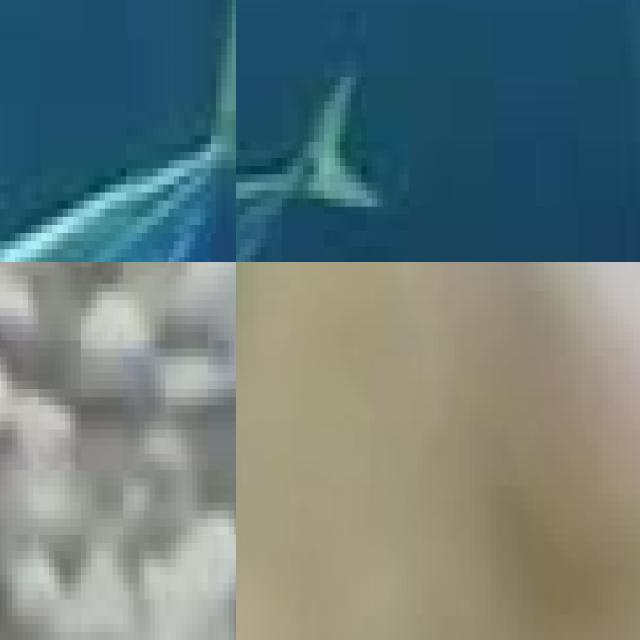fish: (0, 0, 236, 262)
